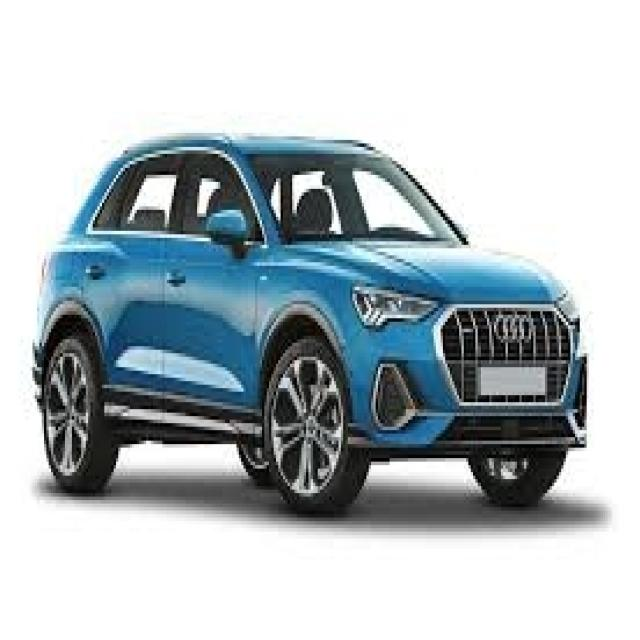blue: (27, 116, 618, 524)
